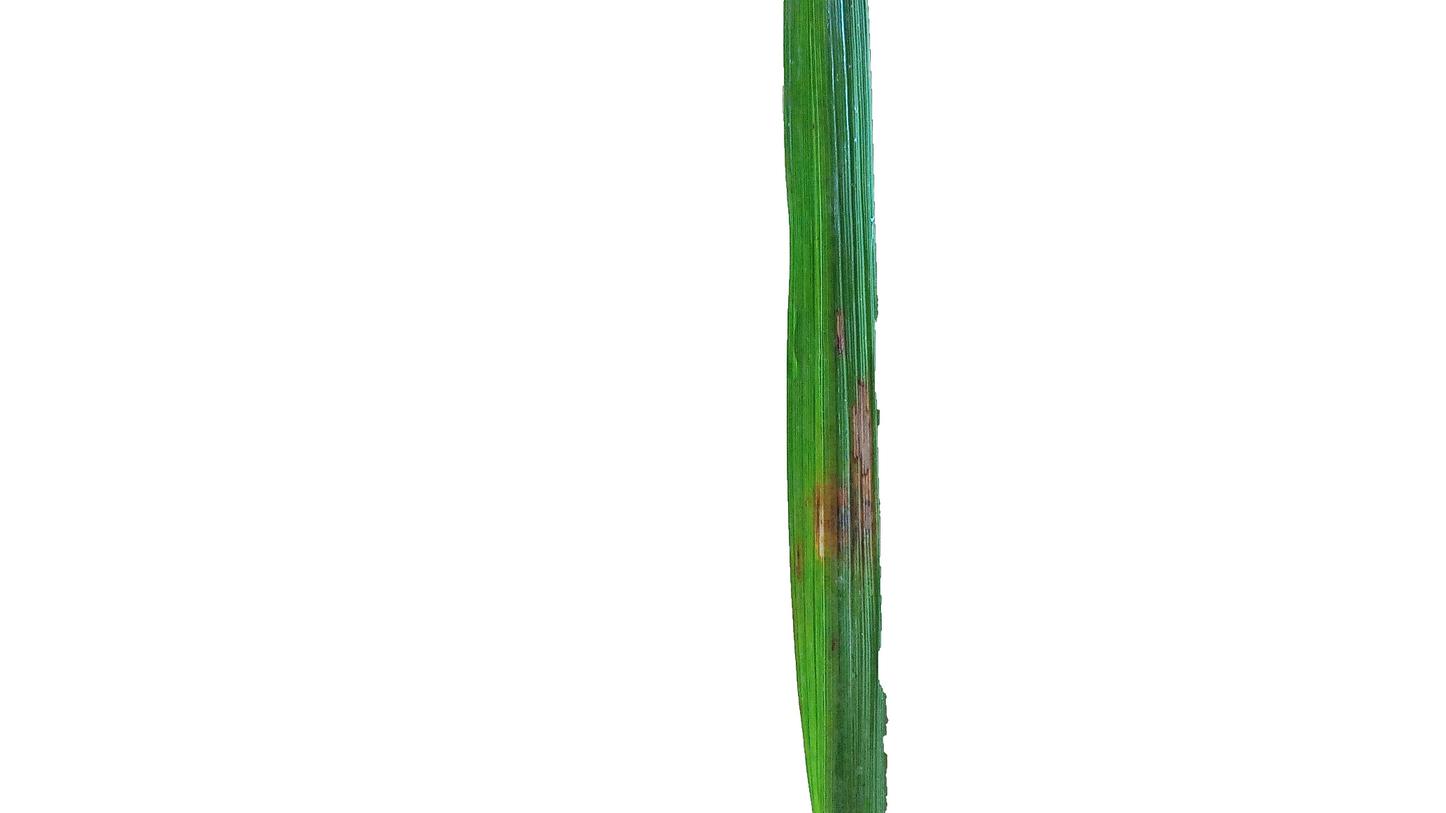Blight: (843, 377, 878, 568), (815, 464, 855, 559), (819, 299, 857, 370)
